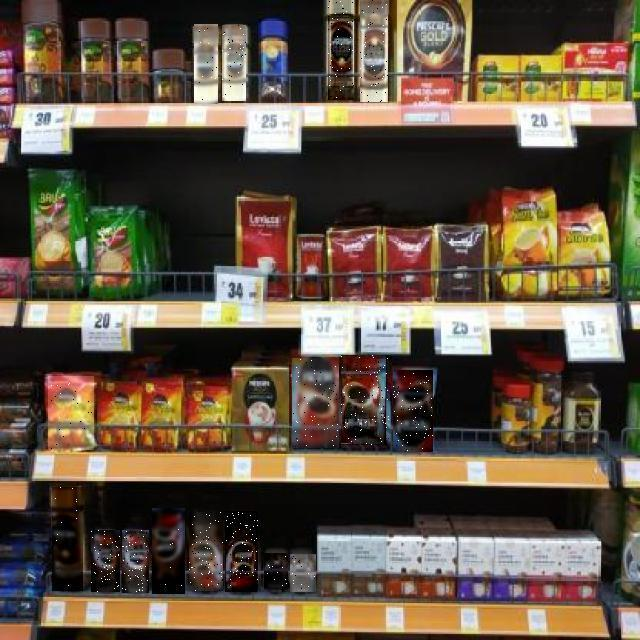Coffee: (342, 356, 390, 448), (292, 358, 339, 448), (48, 376, 94, 450), (393, 370, 433, 452), (52, 487, 83, 591), (361, 0, 389, 102), (152, 508, 185, 594), (189, 512, 223, 591), (225, 511, 258, 592), (328, 0, 354, 100), (194, 24, 218, 104), (223, 25, 247, 101), (91, 531, 120, 593), (122, 530, 149, 593), (290, 554, 316, 592), (264, 554, 288, 592)
